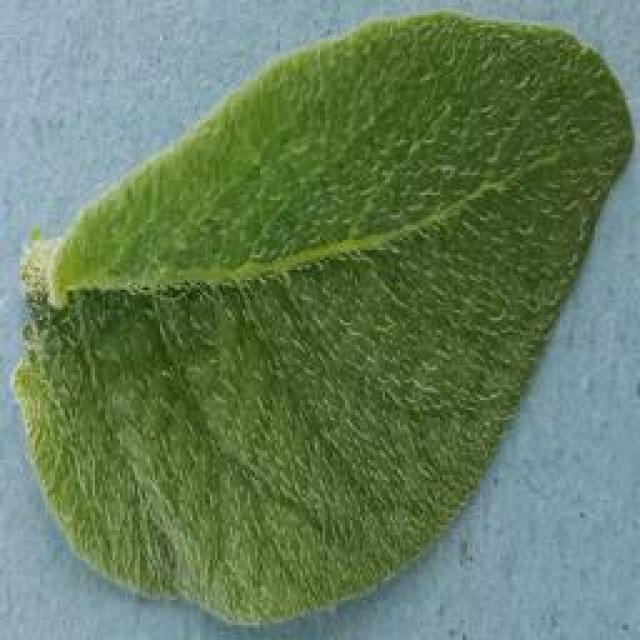Potato_Healthy: (3, 9, 634, 639)
